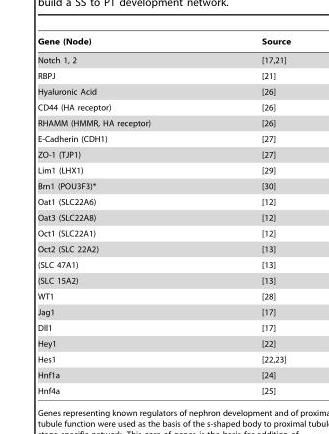table: (37, 36, 290, 395)
table column: (37, 36, 205, 395), (205, 36, 290, 395)
table column header: (37, 36, 290, 50)
table row: (37, 50, 290, 67), (37, 67, 290, 83), (37, 83, 290, 99), (37, 99, 290, 115), (37, 130, 290, 146), (37, 146, 290, 162), (37, 162, 290, 178), (37, 193, 290, 209), (37, 209, 290, 225), (37, 225, 290, 241), (37, 256, 290, 272), (37, 272, 290, 288), (37, 288, 290, 304), (37, 319, 290, 335), (37, 335, 290, 351), (37, 351, 290, 367), (37, 115, 290, 130), (37, 178, 290, 193), (37, 241, 290, 256), (37, 304, 290, 319), (37, 367, 290, 382), (37, 36, 290, 50), (37, 382, 290, 395)
